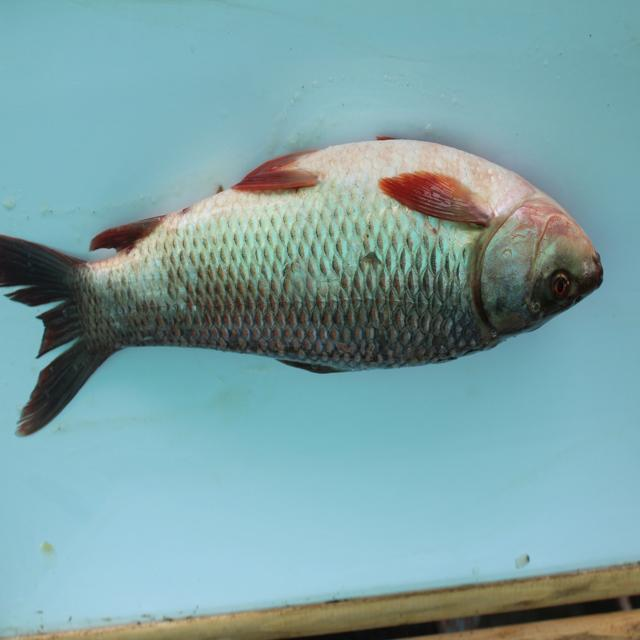Rohu: (4, 117, 613, 409)
